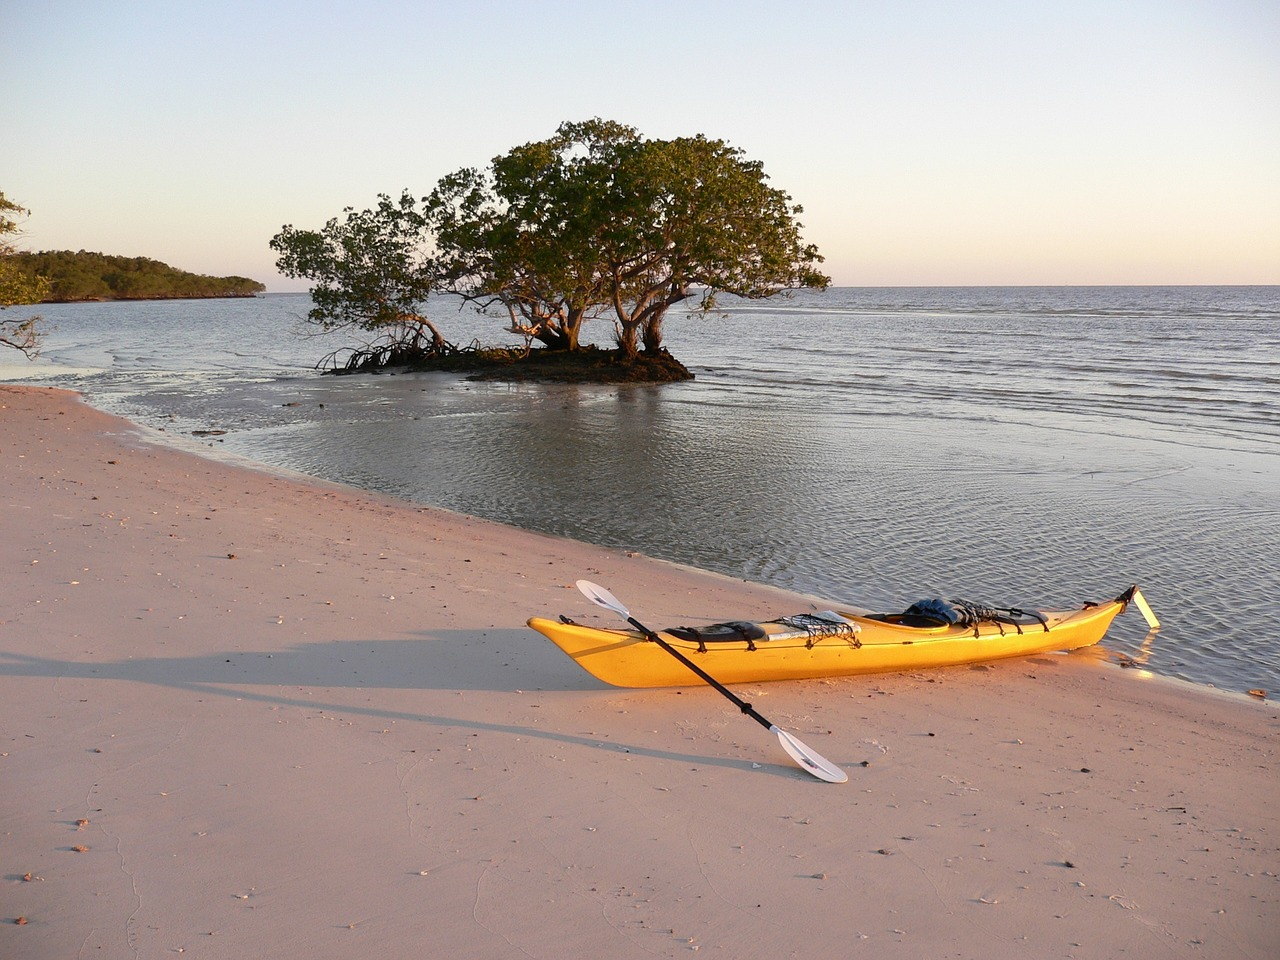kayak: (521, 573, 1170, 700)
